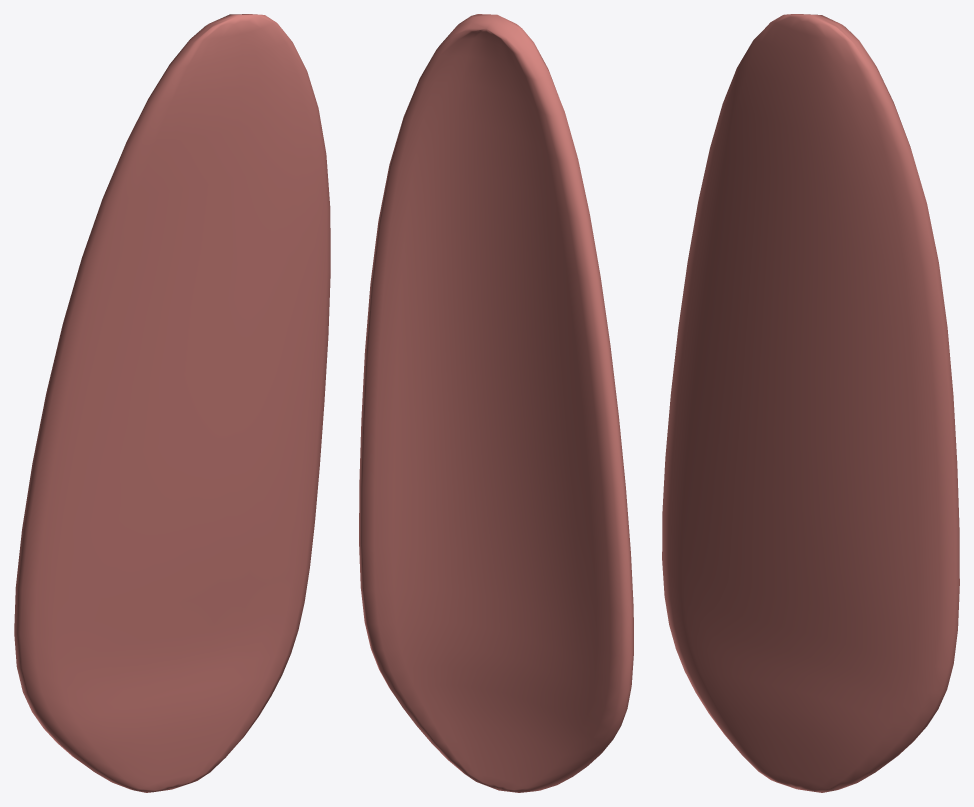
The picture shows the model from 3 angles, left to right: view 1: azimuth 30°, elevation 25°; view 2: azimuth 150°, elevation 25°; view 3: azimuth 330°, elevation 25°; orthographic projection. The views are drawn at different scales.
Parts seen in each view (by area): view 1: ZA_7568faac6a3f030e; view 2: ZA_7568faac6a3f030e; view 3: ZA_7568faac6a3f030e.
Part boxes in pixels (bbox=[...]): ZA_7568faac6a3f030e: bbox=[14, 14, 330, 792]; ZA_7568faac6a3f030e: bbox=[359, 14, 633, 792]; ZA_7568faac6a3f030e: bbox=[662, 14, 959, 792].
Bounding box in the file's own units: 0.0265 × 0.0673 × 0.00764.
